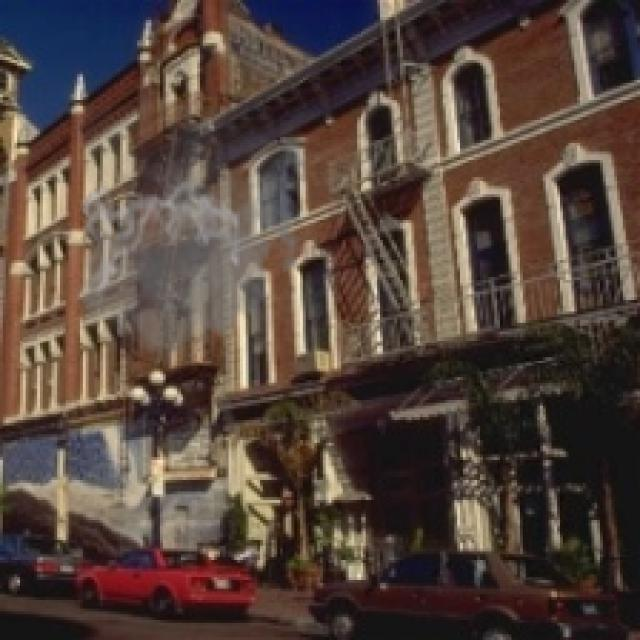smoke: (74, 106, 314, 377)
